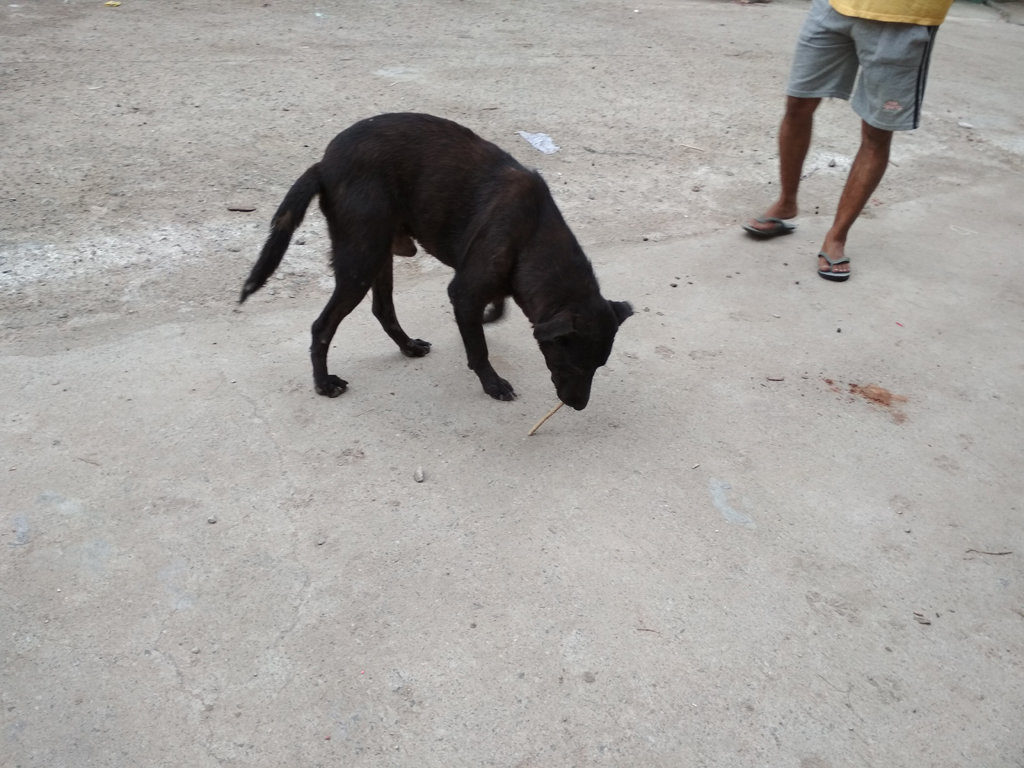dog: (236, 113, 636, 409)
